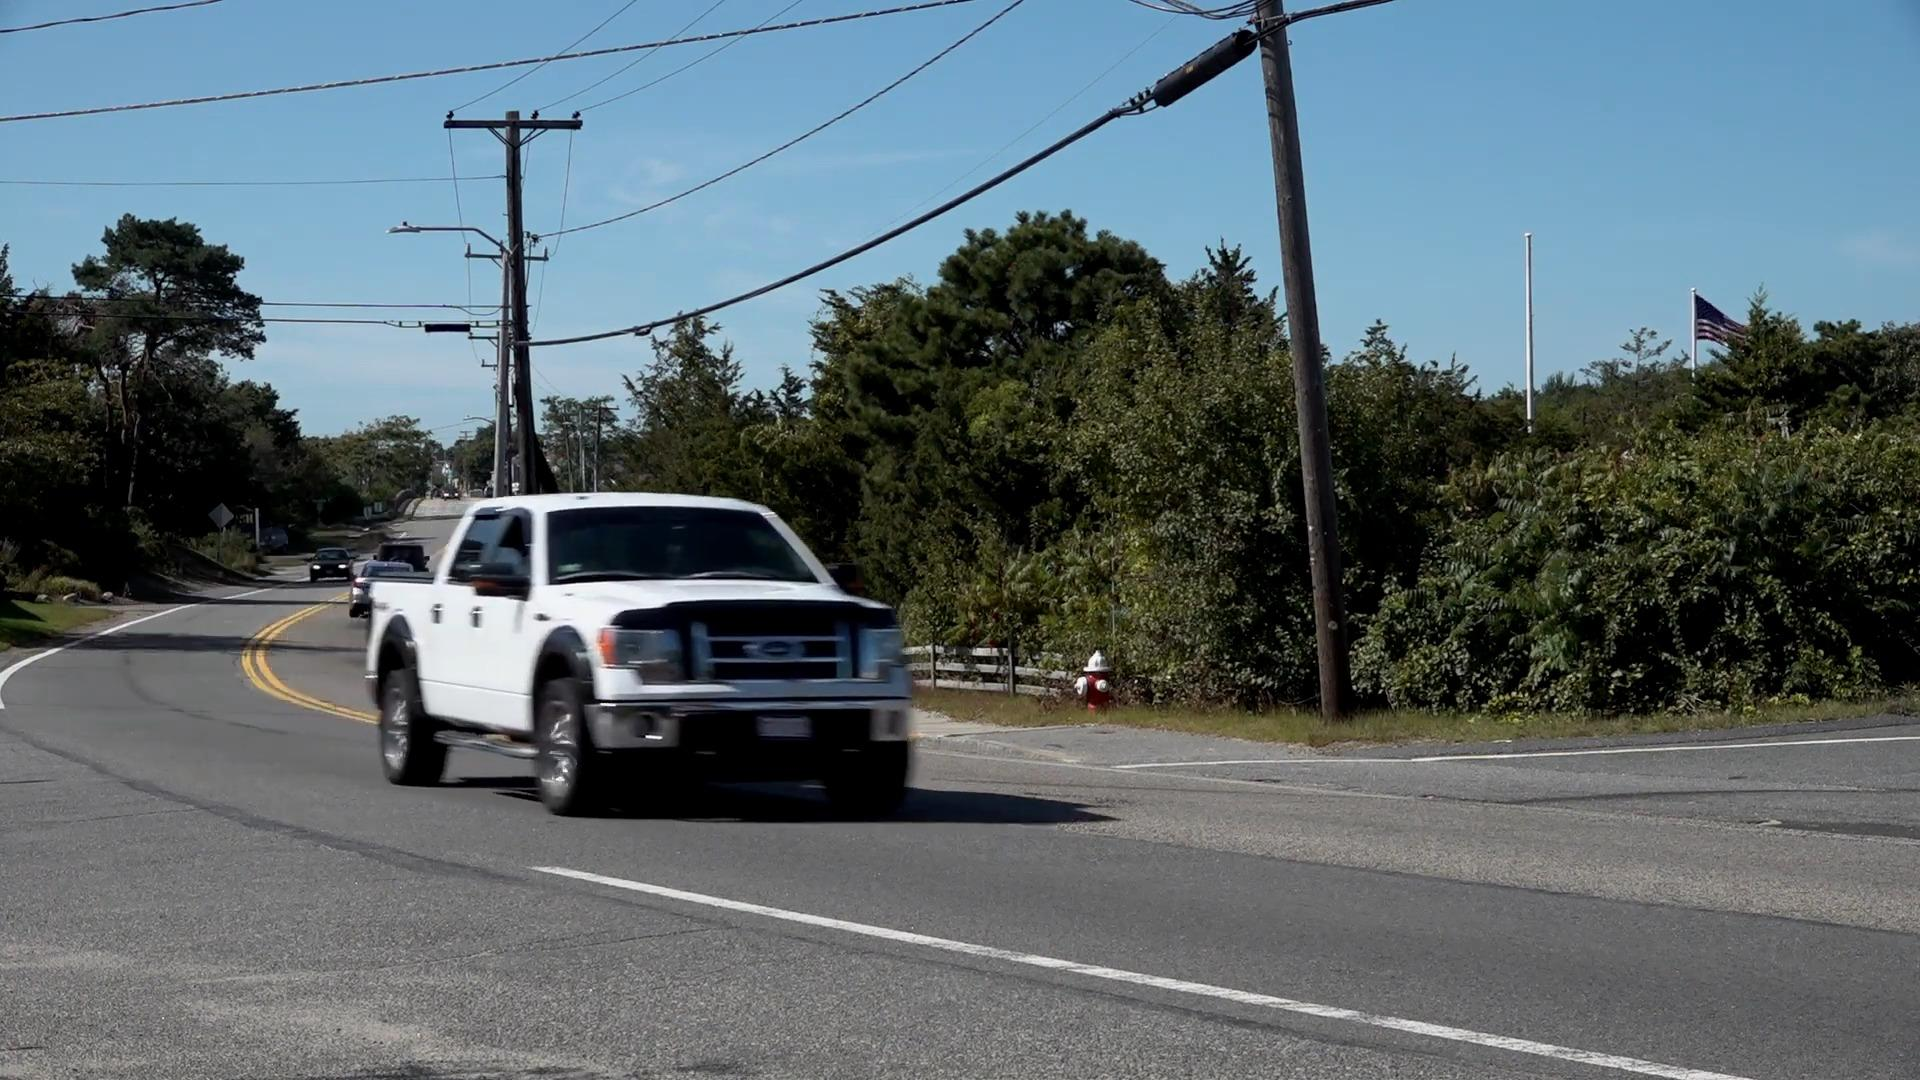pickup: (362, 490, 918, 820)
